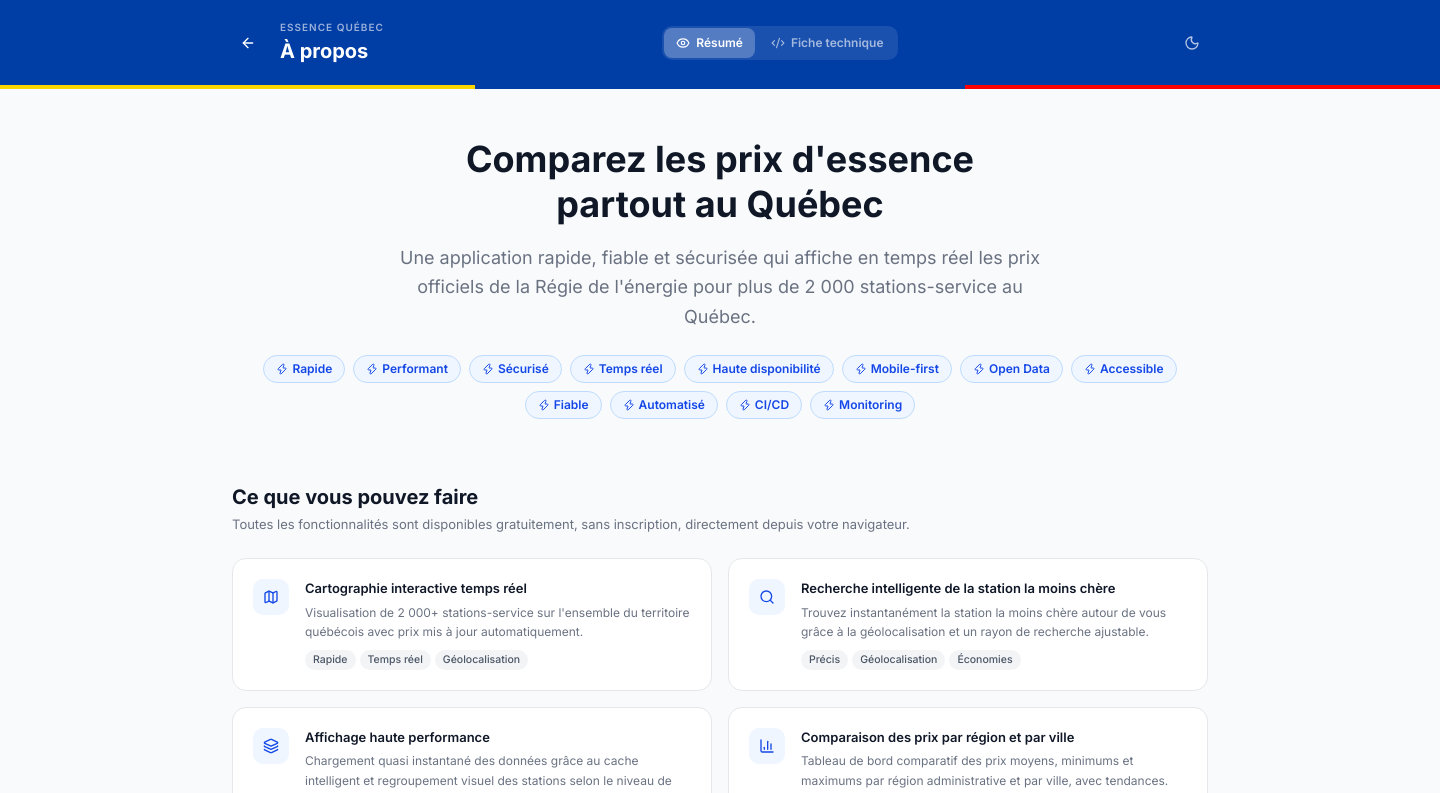
Test: TechPage › retourne au mode résumé quand on clique sur Résumé
Click the button "Fiche technique". click: coordinates (827, 42)
box: [759,28,896,58]
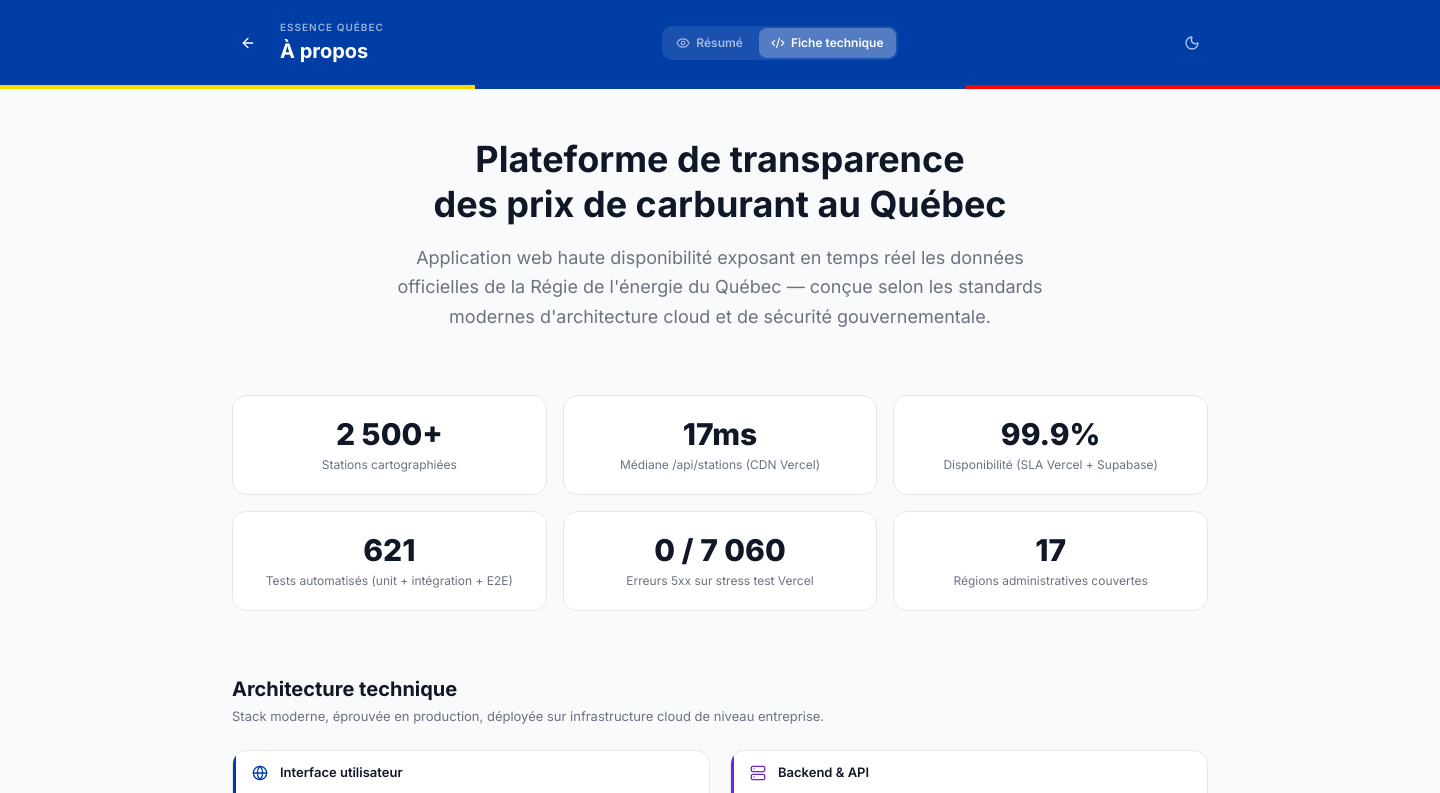
Now the heading "Architecture technique" is shown, box [232,677,457,701]
Click the button "Résumé". click: coordinates (710, 42)
box: [664,28,755,58]
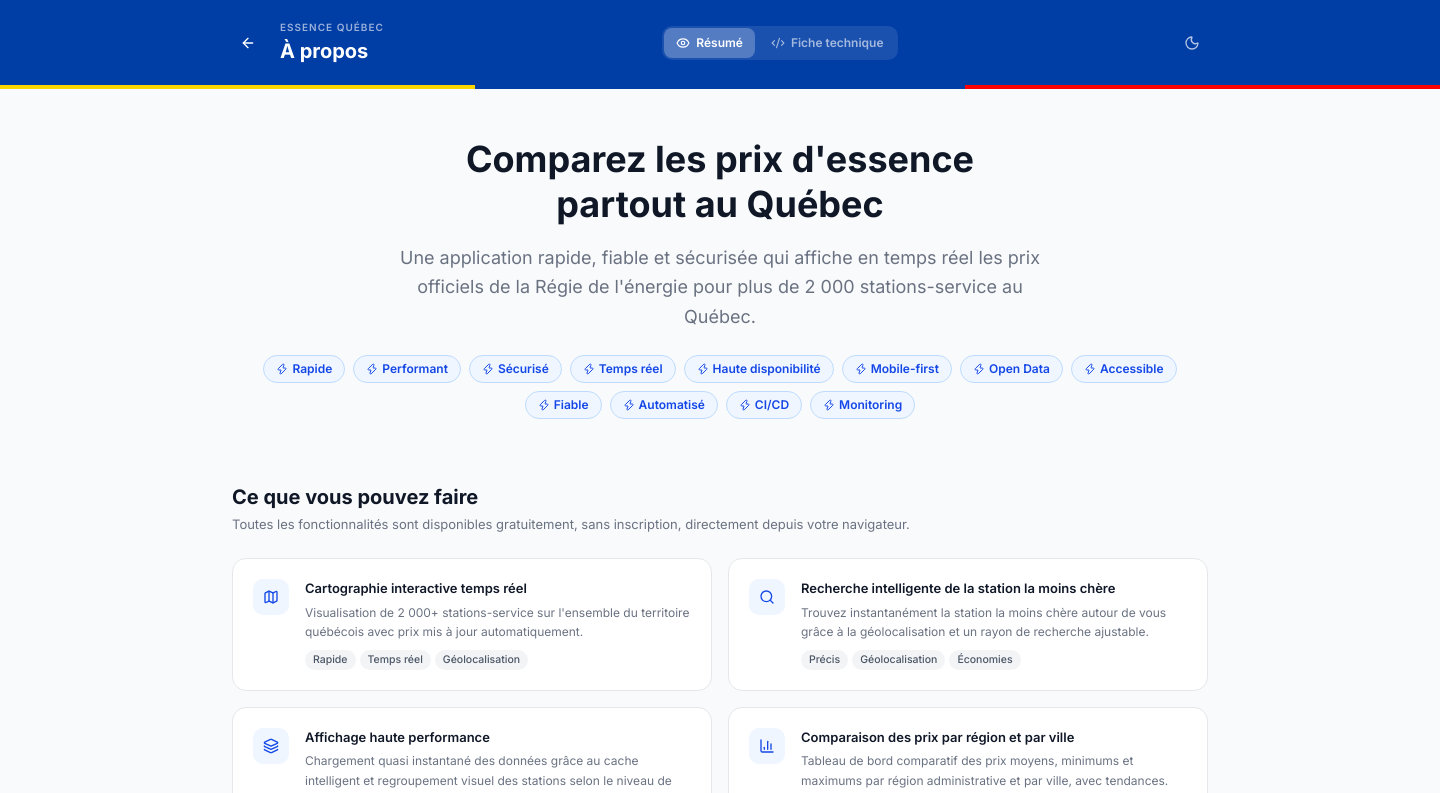
Now the heading "Architecture technique" is gone
